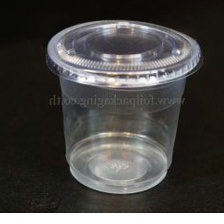glass: (33, 14, 212, 202)
